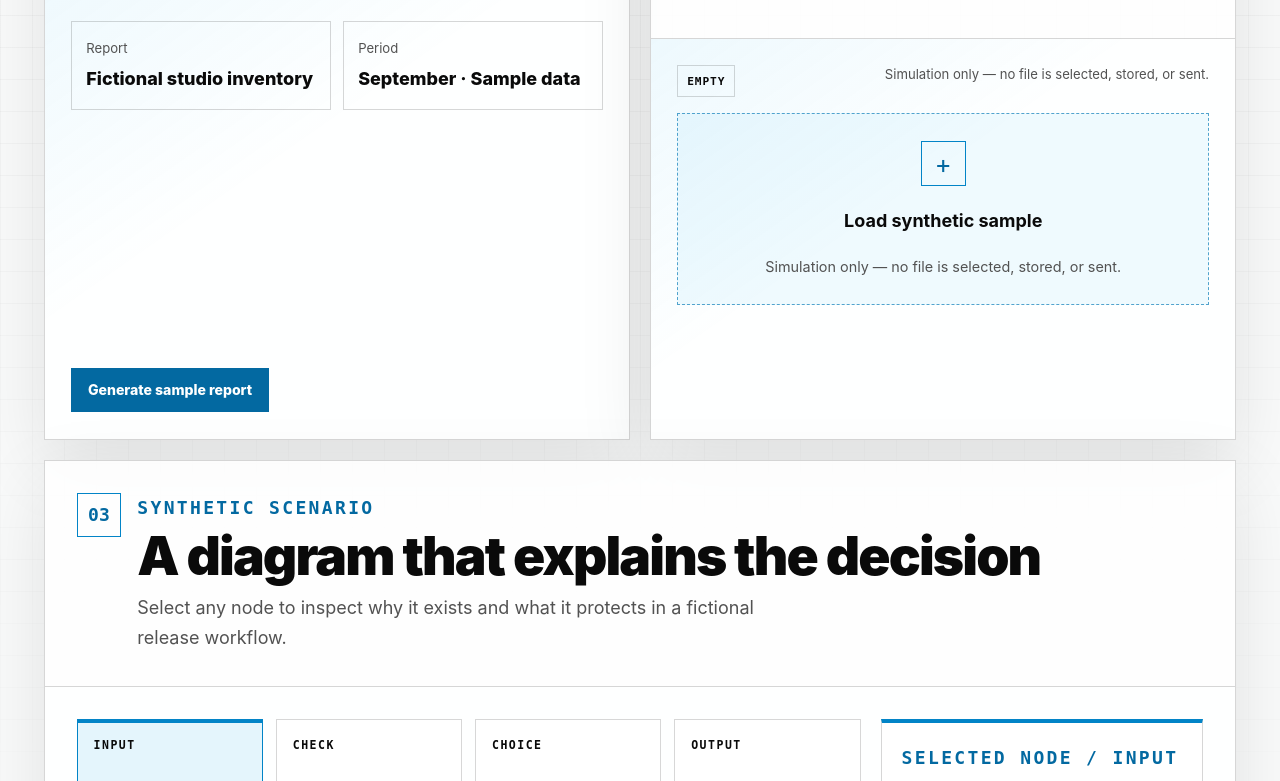
Test: CraftLab › shows a useful error, preserves context, and offers recovery
This screenshot has width=1280, height=781.
(page scrolled)
Click the button "Generate sample report" at [170, 390], box [71,368,269,412]
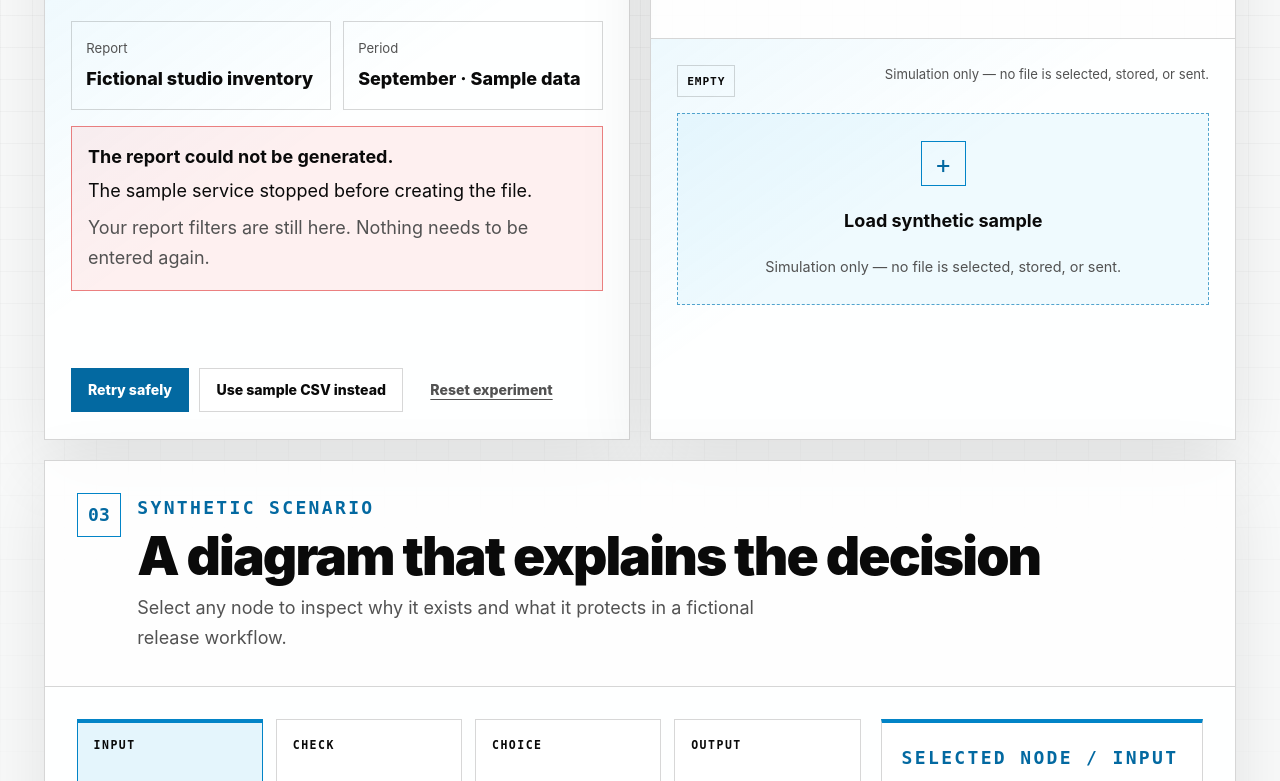
Check: the message shows "The report could not be generated.", box [88,146,394,167]
Check: the message shows "Your report filters are still here.", box [88,217,528,268]
Check: the button "Retry safely" is shown
Click the button "Retry safely" at [130, 390], box [71,368,189,412]
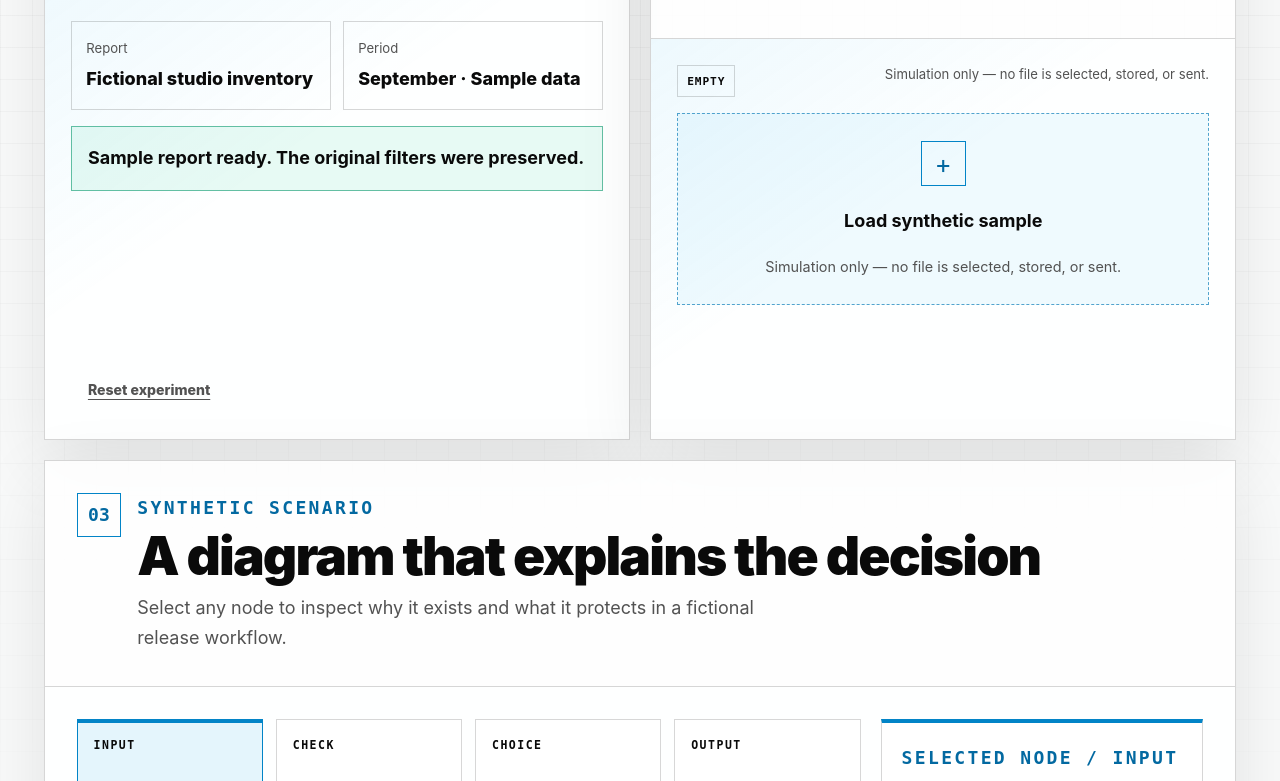
Check: the message shows "The original filters were preserved.", box [88,147,584,168]
